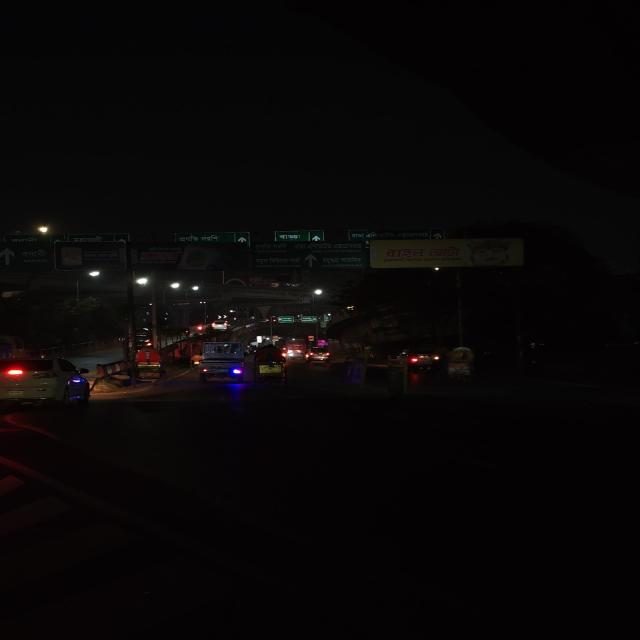car: (0, 348, 102, 421), (389, 345, 442, 372), (303, 346, 335, 367), (208, 318, 234, 330)
motorcycle: (195, 322, 207, 334)
pickup_van: (195, 339, 249, 386)
rickshaw: (128, 346, 174, 390), (250, 342, 293, 384), (445, 346, 481, 384)
